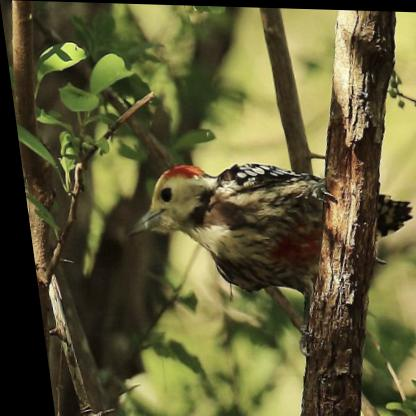Burung: (113, 159, 415, 359)
